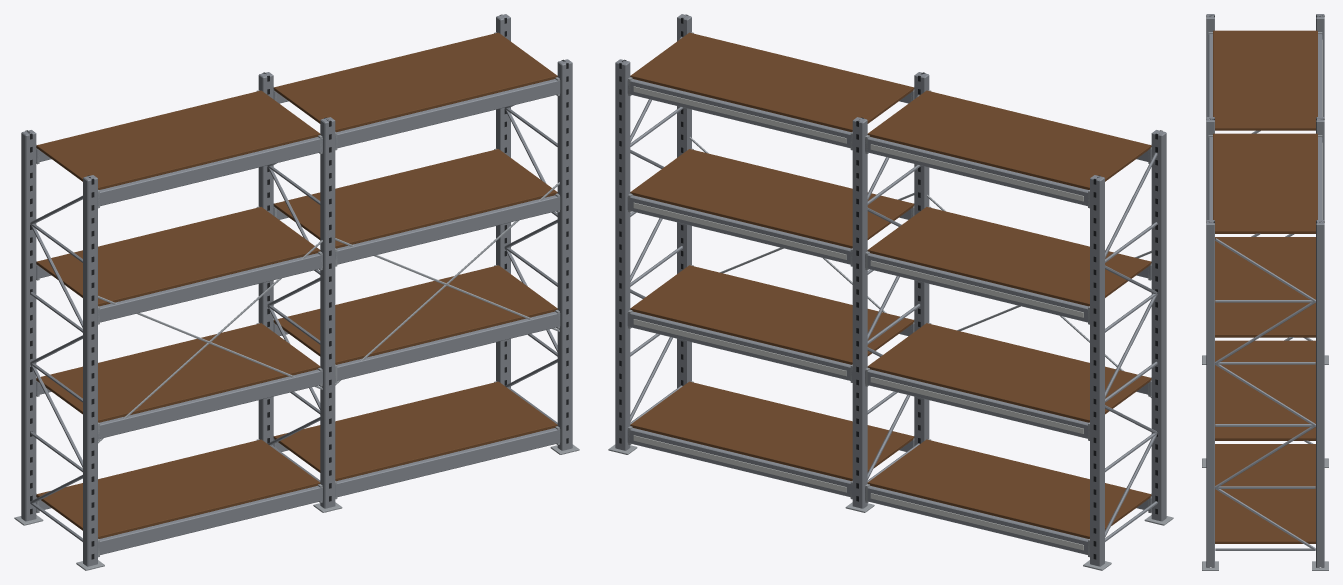
File: longspan_shelving.glb
The picture shows the model from 3 angles, left to right: view 1: azimuth 30°, elevation 25°; view 2: azimuth 150°, elevation 25°; view 3: azimuth 270°, elevation 25°; orthographic projection. The views are drawn at different scales.
Visible parts, largest first — view 1: longspan_shelving; view 2: longspan_shelving; view 3: longspan_shelving.
Boxes of the visible parts, <box> form: longspan_shelving: <box>14,14,579,570</box>; longspan_shelving: <box>608,14,1173,570</box>; longspan_shelving: <box>1202,14,1328,570</box>.
Bounding box in the file's own units: 4 × 3 × 1.
